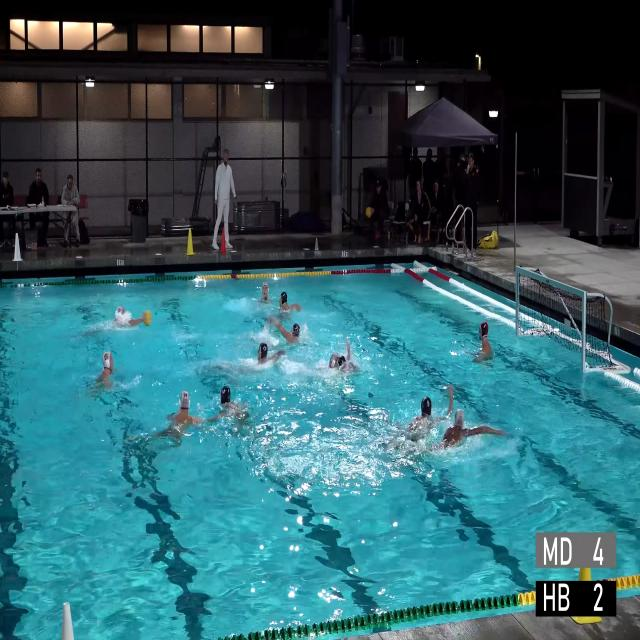ball: (144, 310, 152, 326), (366, 206, 372, 218)
